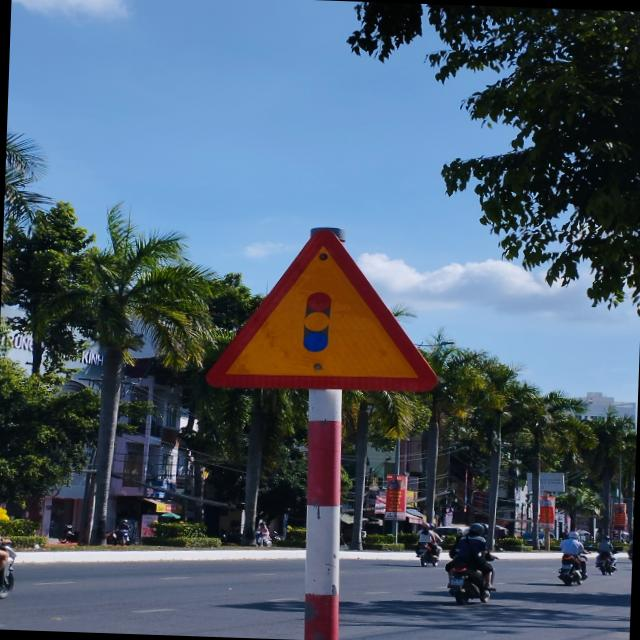Duong_Co_Go_Giam_Toc: (202, 222, 444, 394)
